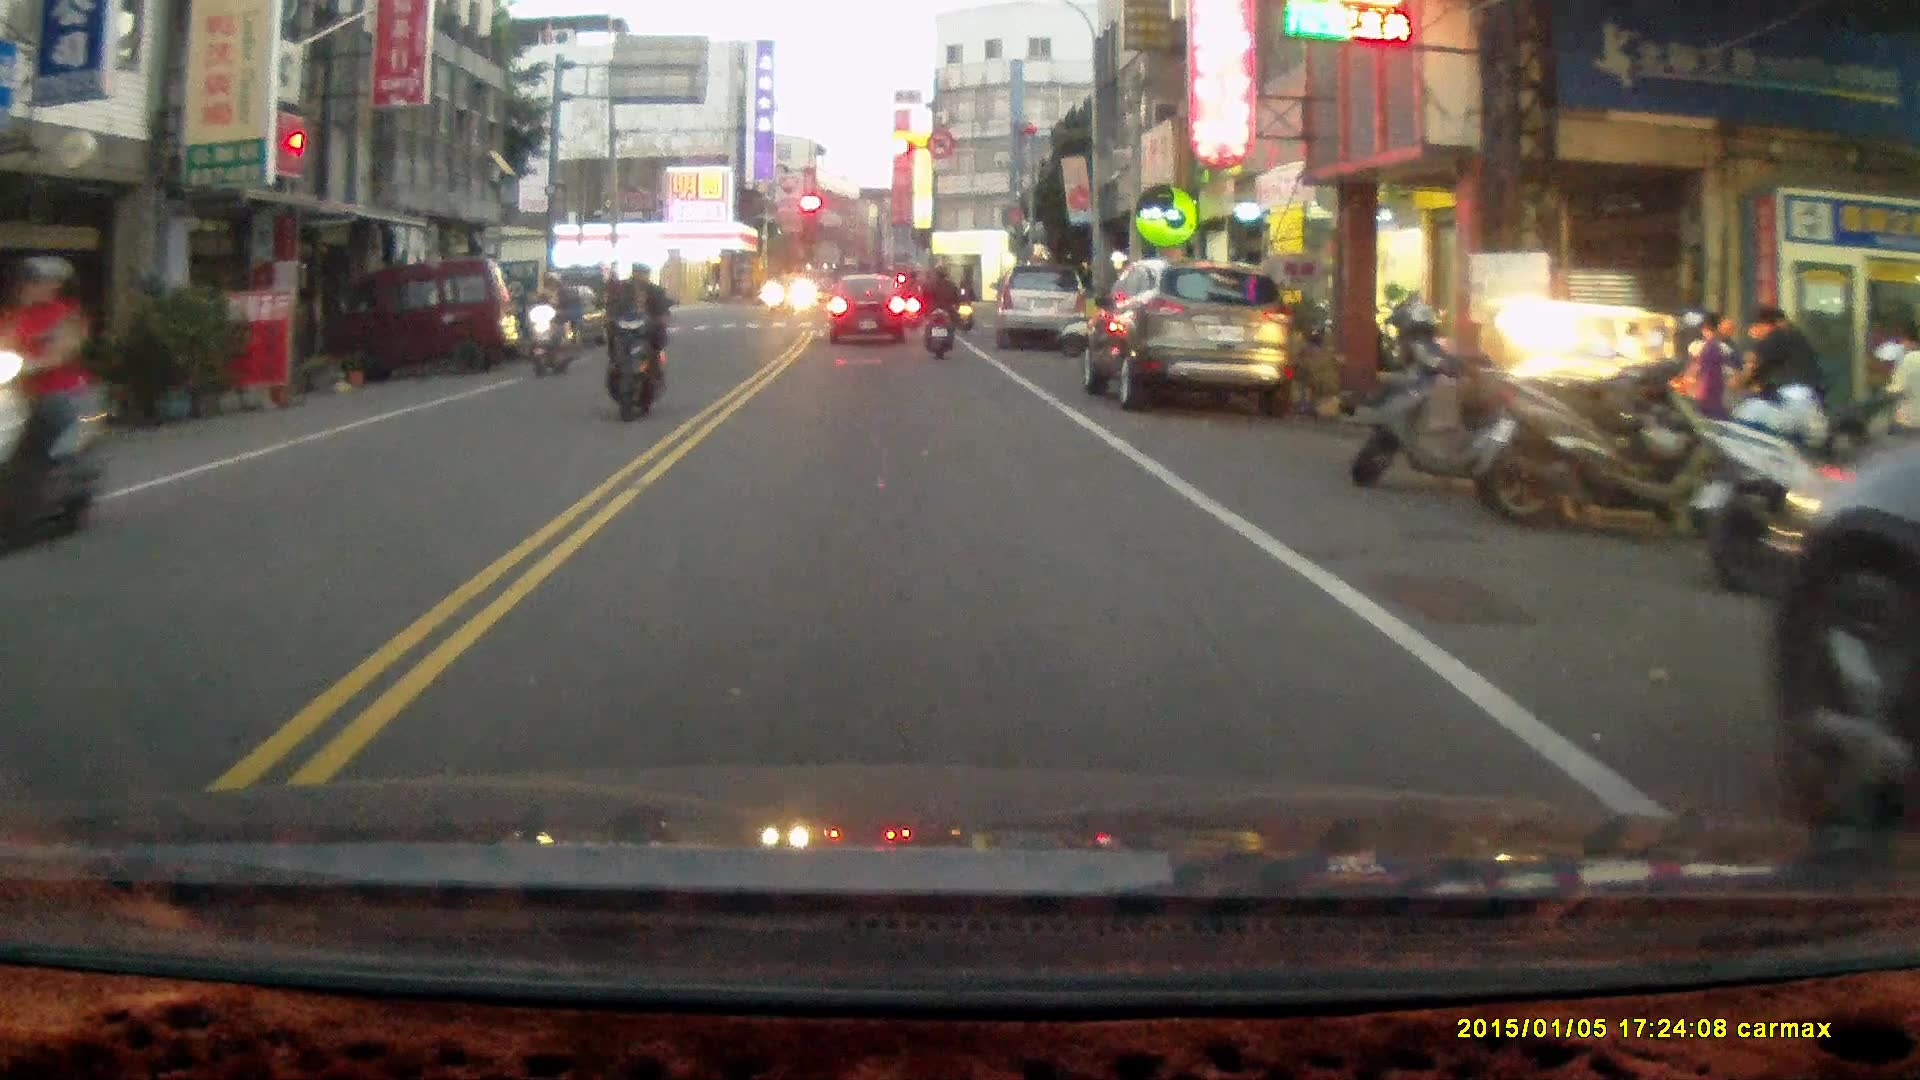pedestrian: (1746, 308, 1816, 471), (1685, 308, 1737, 462), (1878, 320, 1920, 481)
rider: (0, 253, 111, 556), (592, 260, 669, 423), (524, 267, 579, 379), (915, 261, 959, 360), (898, 267, 924, 327), (953, 272, 977, 335)
vehicle: (1770, 460, 1920, 827), (1084, 261, 1299, 418), (318, 260, 521, 385), (1000, 264, 1089, 352)
